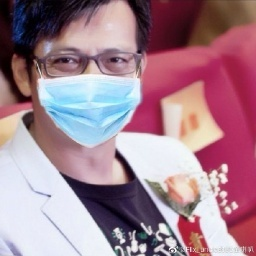correctlyWear: (10, 42, 148, 147)
